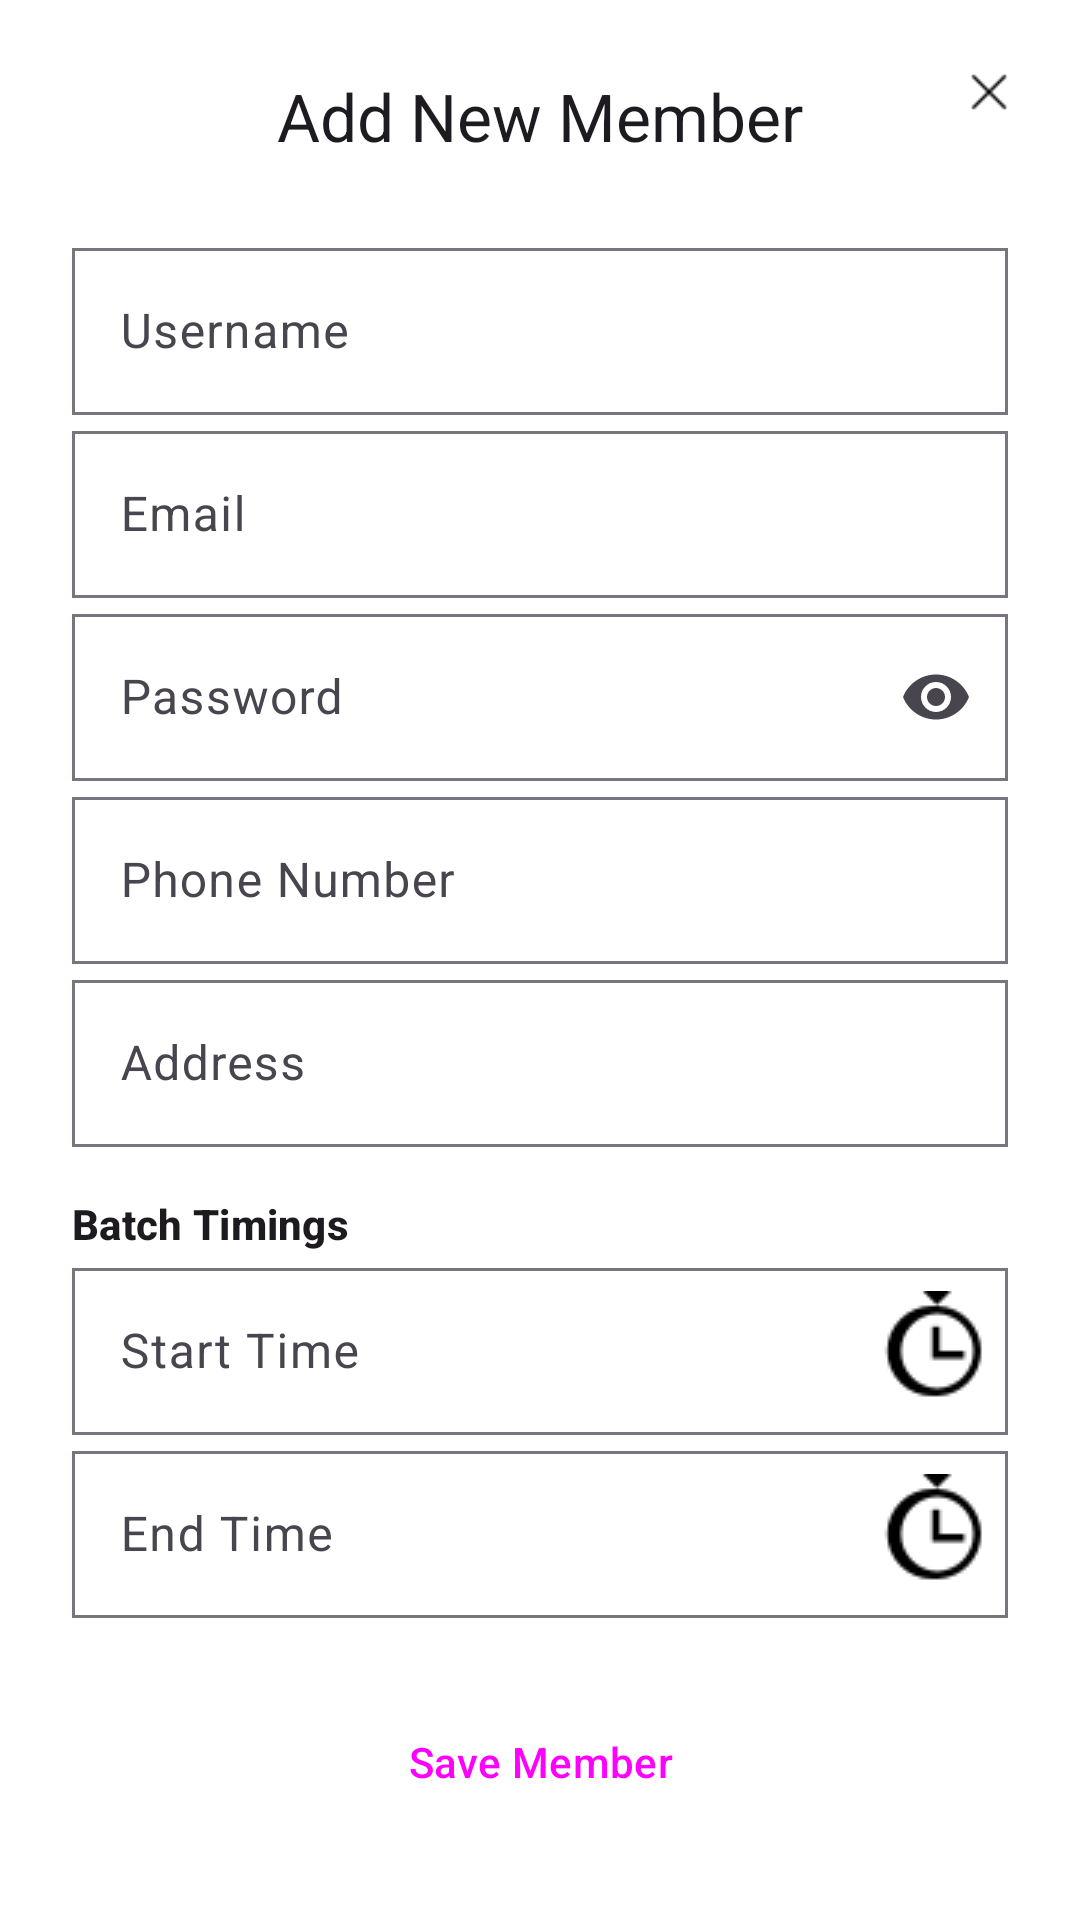

Where to tap for icons on this 1080px×1920px app screen, as (x,y):
Close dialog: (989,92)
